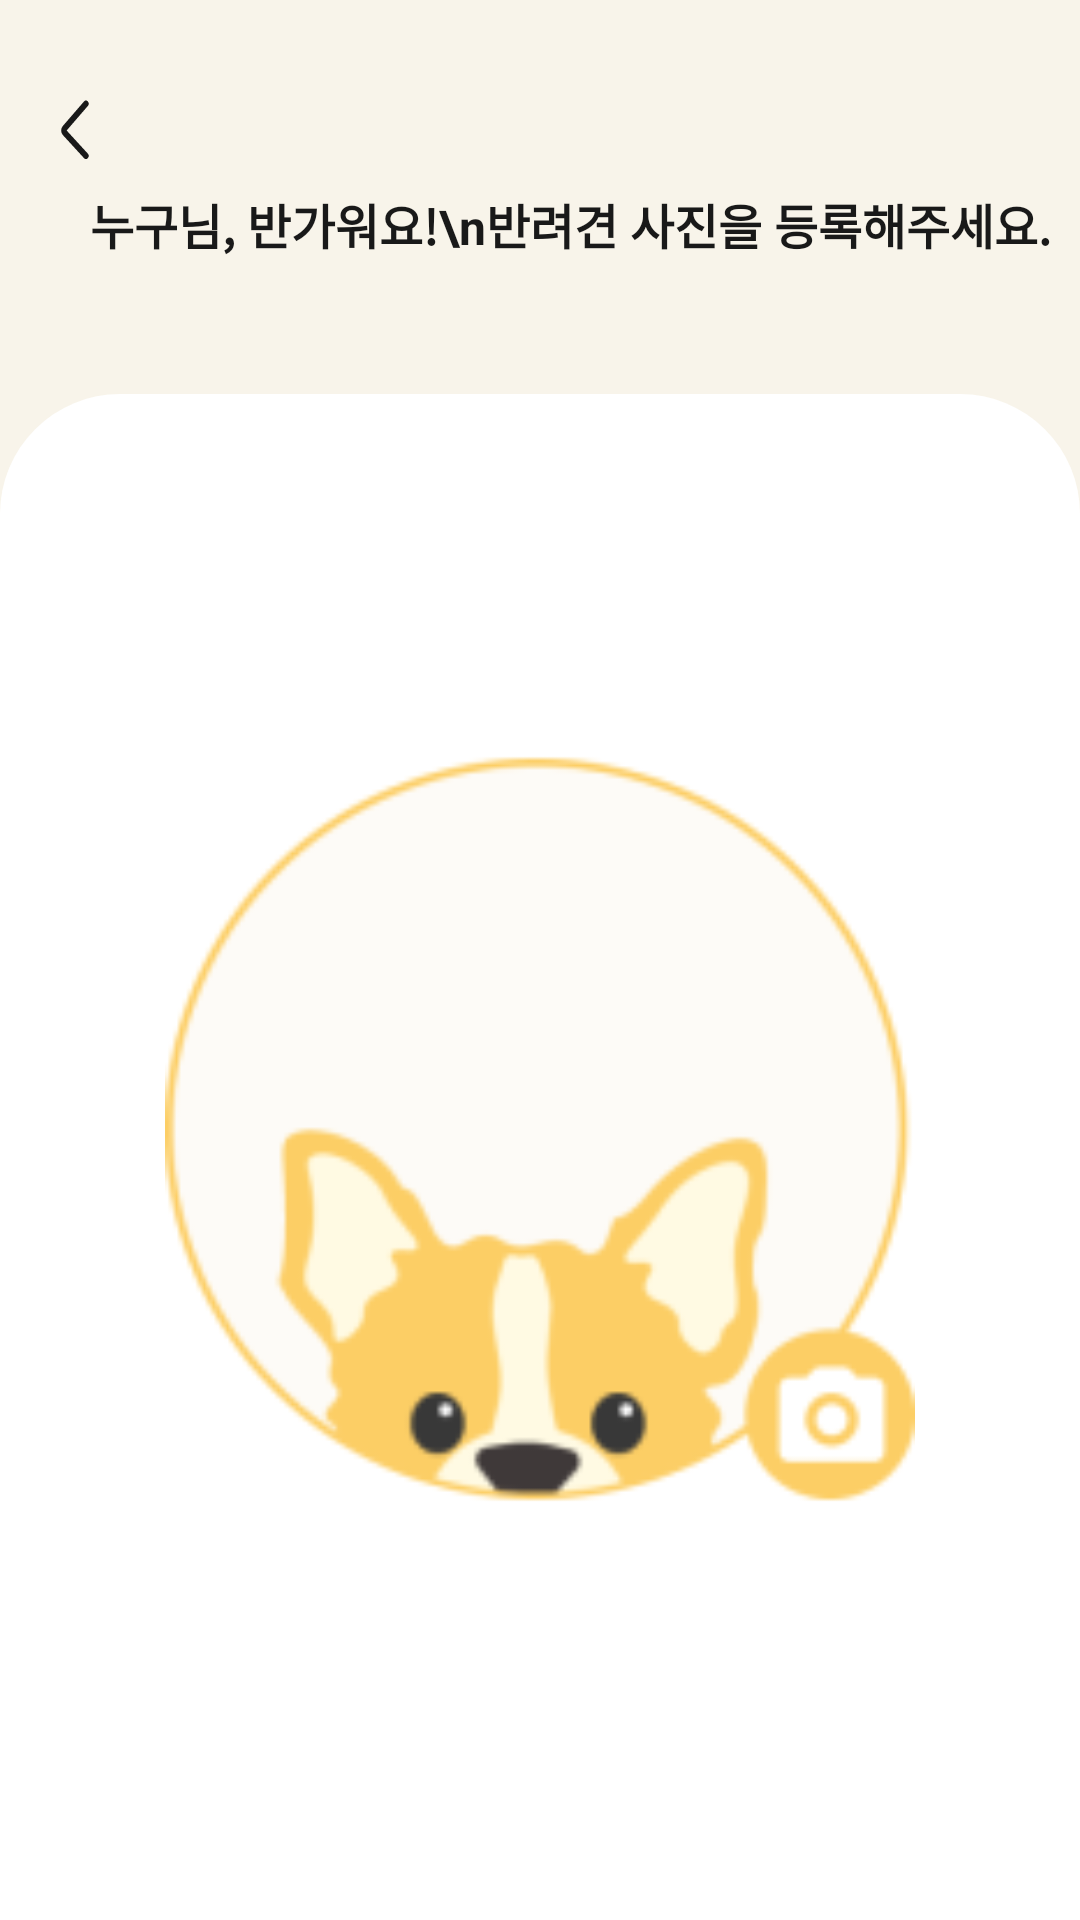

Screen size 1080*1920. Icon name, then its box in pixels as region(x1, y1, x2, y2):
back calendar btm: region(61, 100, 89, 159)
